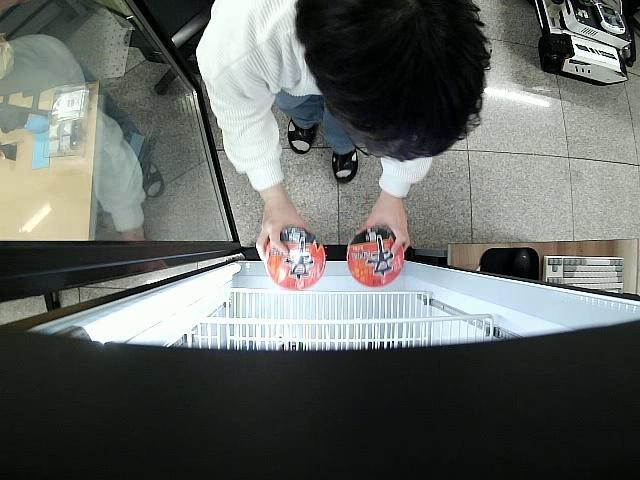01_ShinRamen_L: (265, 226, 326, 290), (347, 228, 404, 287)
